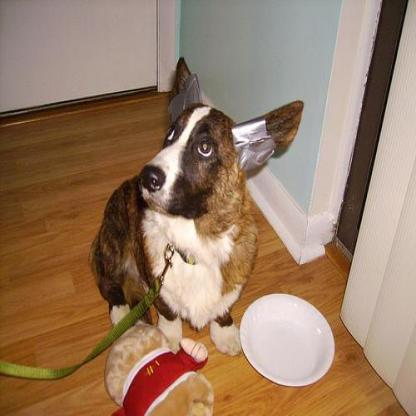Cardigan: (89, 56, 302, 358)
